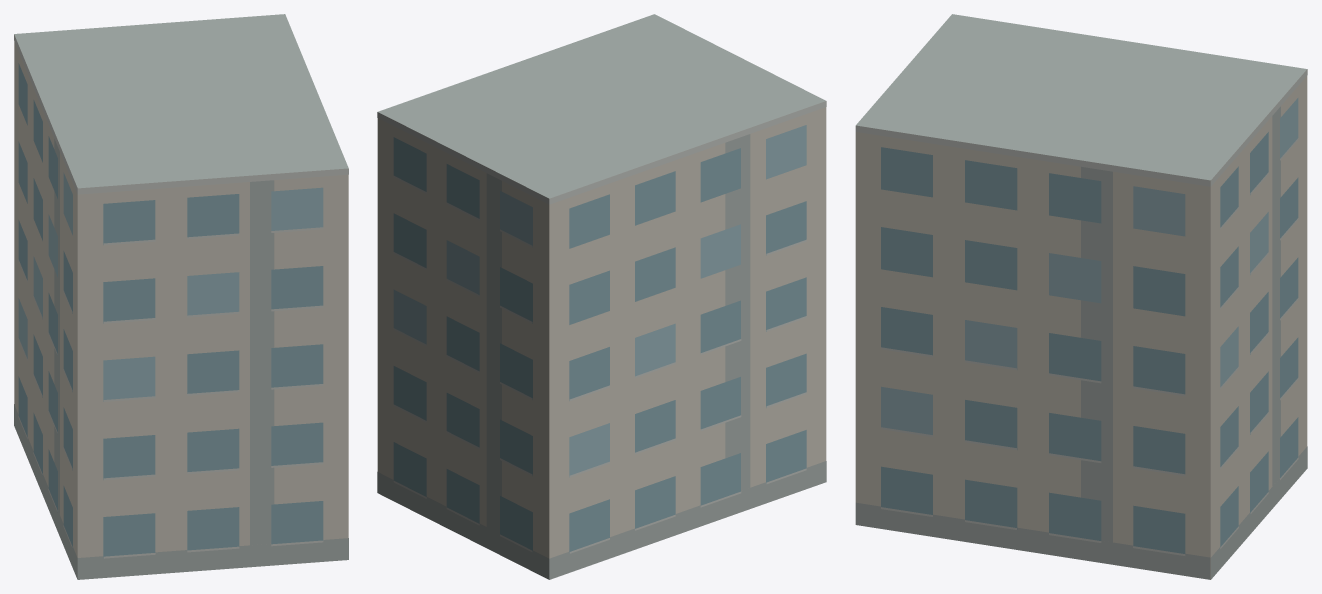
The model's file is residential-1910b594-4591-4f6c-b883-3ec8d6b6b468.glb.
3 views of the same model, side by side, from view 1: azimuth 30°, elevation 25°; view 2: azimuth 150°, elevation 25°; view 3: azimuth 270°, elevation 25° (orthographic). The views are drawn at different scales.
Visible parts, largest first — view 1: residential-1910b594-4591-4f6c-b883-3ec8d6b6b468.tmp; view 2: residential-1910b594-4591-4f6c-b883-3ec8d6b6b468.tmp; view 3: residential-1910b594-4591-4f6c-b883-3ec8d6b6b468.tmp.
Boxes of the visible parts, box(x1,y1,x2,y2) form: residential-1910b594-4591-4f6c-b883-3ec8d6b6b468.tmp: box(14, 14, 348, 579); residential-1910b594-4591-4f6c-b883-3ec8d6b6b468.tmp: box(377, 14, 826, 579); residential-1910b594-4591-4f6c-b883-3ec8d6b6b468.tmp: box(855, 14, 1307, 579).
Bounding box in the file's own units: 13.64 × 15.25 × 15.64.
